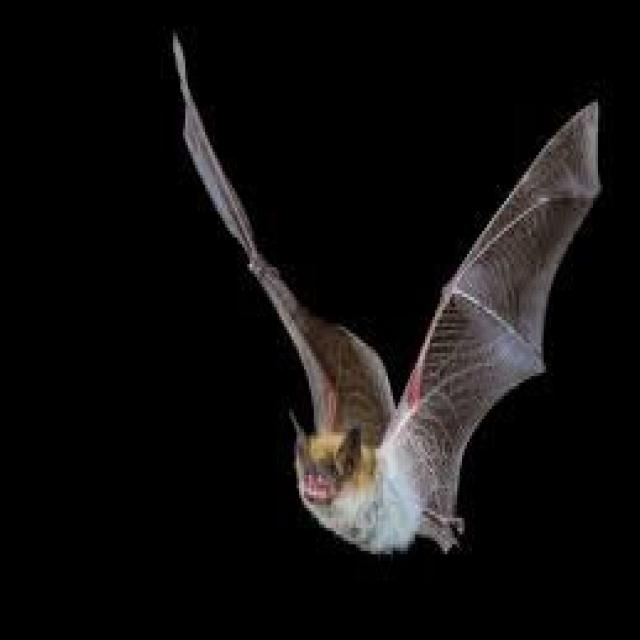Bat: (168, 36, 597, 572)
